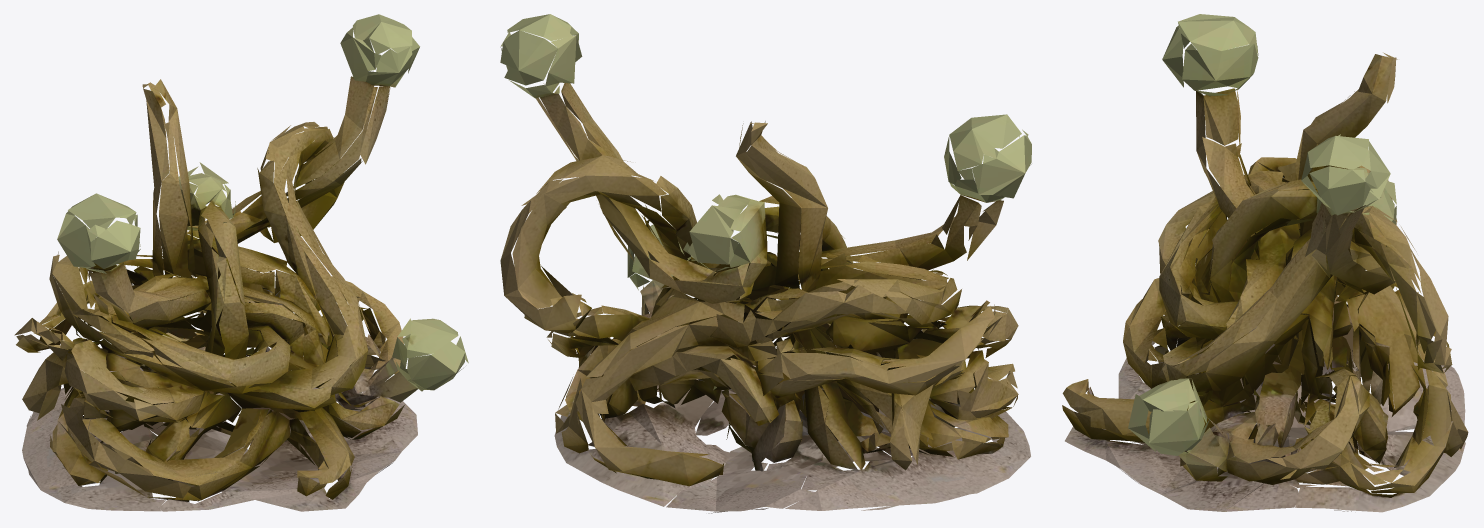
Rendered from ivy_tendril.glb.
3 renders of one model, left to right at view 1: azimuth 30°, elevation 25°; view 2: azimuth 150°, elevation 25°; view 3: azimuth 270°, elevation 25°, orthographic. The views are drawn at different scales.
Visible parts, largest first — view 1: textured.obj; view 2: textured.obj; view 3: textured.obj.
Boxes of the visible parts, x1=… form: textured.obj: x1=14, y1=14, x2=468, y2=511; textured.obj: x1=500, y1=14, x2=1031, y2=513; textured.obj: x1=1062, y1=14, x2=1468, y2=512.
Size of the model in its own units: 0.02 by 0.0167 by 0.0157.
1 material, 1 textured.
